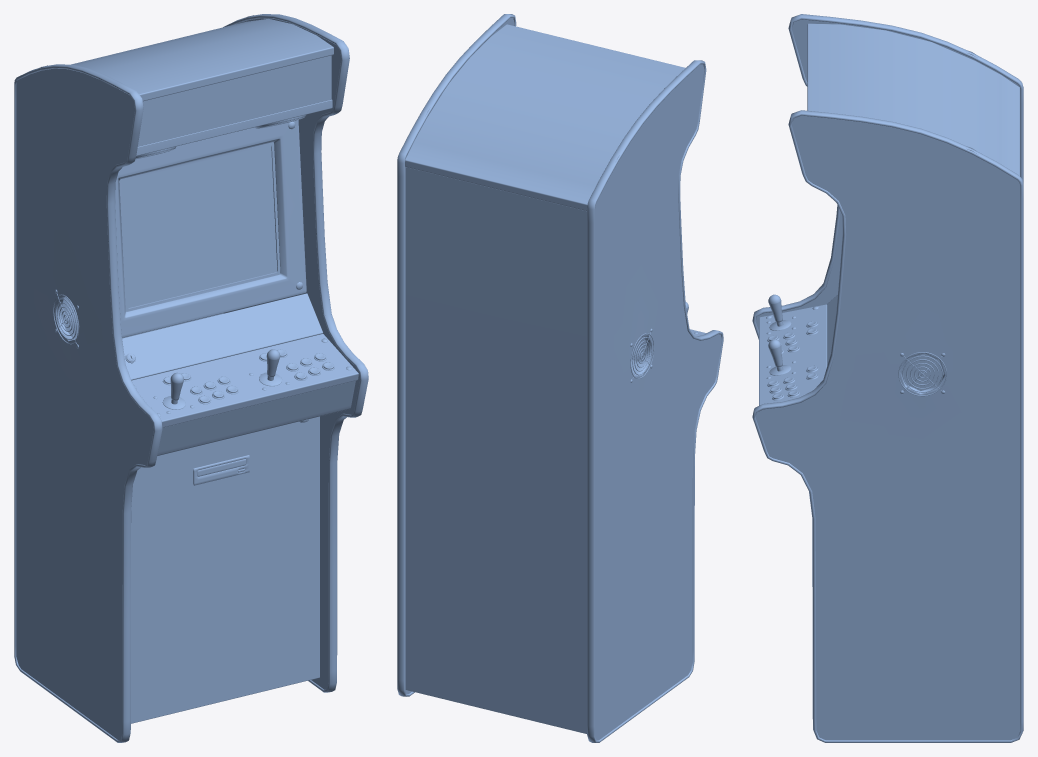
File: Arcade-machine.obj
3 renders of one model, left to right at view 1: azimuth 30°, elevation 25°; view 2: azimuth 150°, elevation 25°; view 3: azimuth 270°, elevation 25°, orthographic. The views are drawn at different scales.
Parts seen in each view (by area): view 1: Arcade-machine, screen; view 2: Arcade-machine; view 3: Arcade-machine.
Boxes of the visible parts, <box> form: Arcade-machine: <box>14,14,368,742</box>; screen: <box>121,145,277,307</box>; Arcade-machine: <box>397,14,723,742</box>; Arcade-machine: <box>752,14,1023,742</box>.
Bounding box in the file's own units: 7.54 × 22.13 × 8.62.
